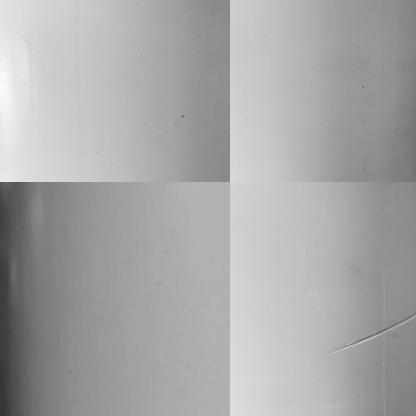sunshang: (327, 310, 414, 355)
